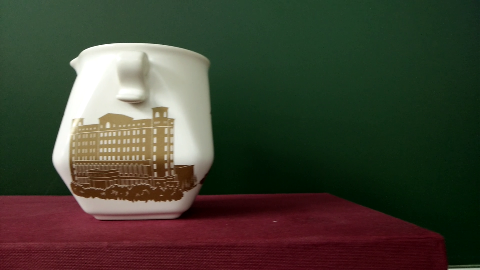law: (73, 122, 186, 194)
